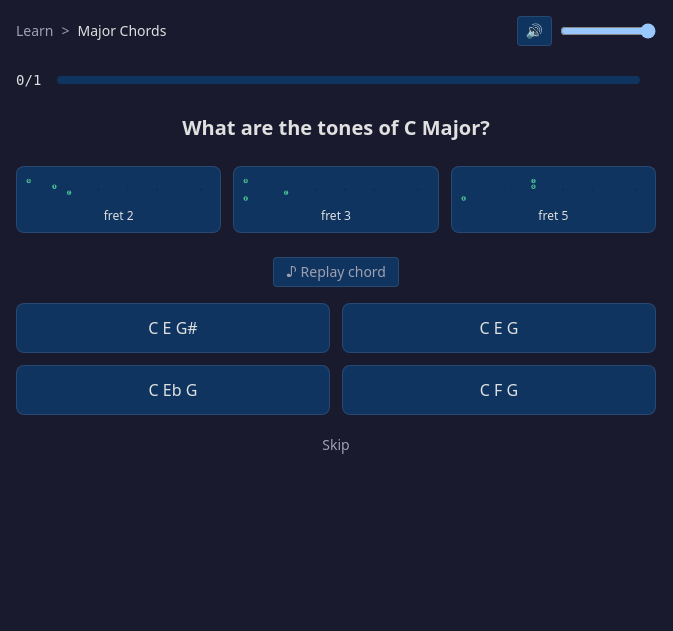
it: FlashcardSession: ChordDiagram in AnswerFeedback (teaching moment) › wrong answer on chord card: feedback block contains a ChordDiagram (the teaching-moment hint)
This screenshot has width=673, height=631.
Click the button with test id "option-C Eb G" at [173, 390], box [16,365,330,415]
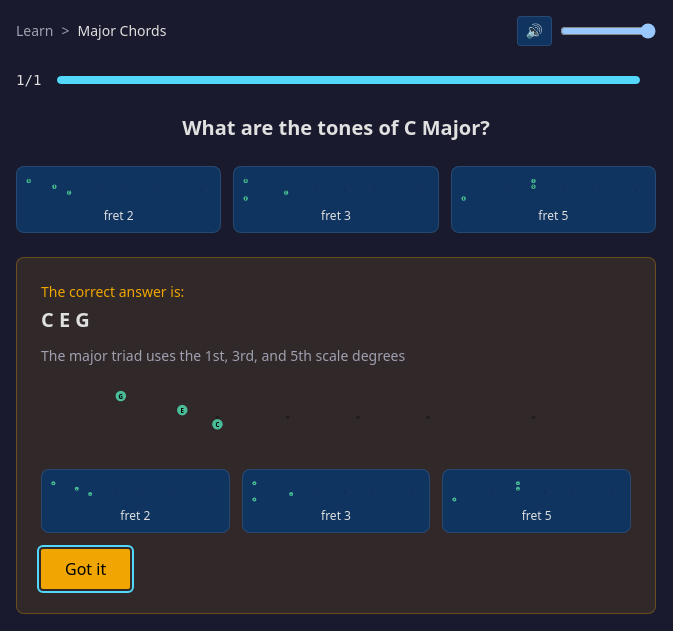
Check: the element with test id "chord-diagram" that starts with "fret" is shown, box [41,469,631,533]
